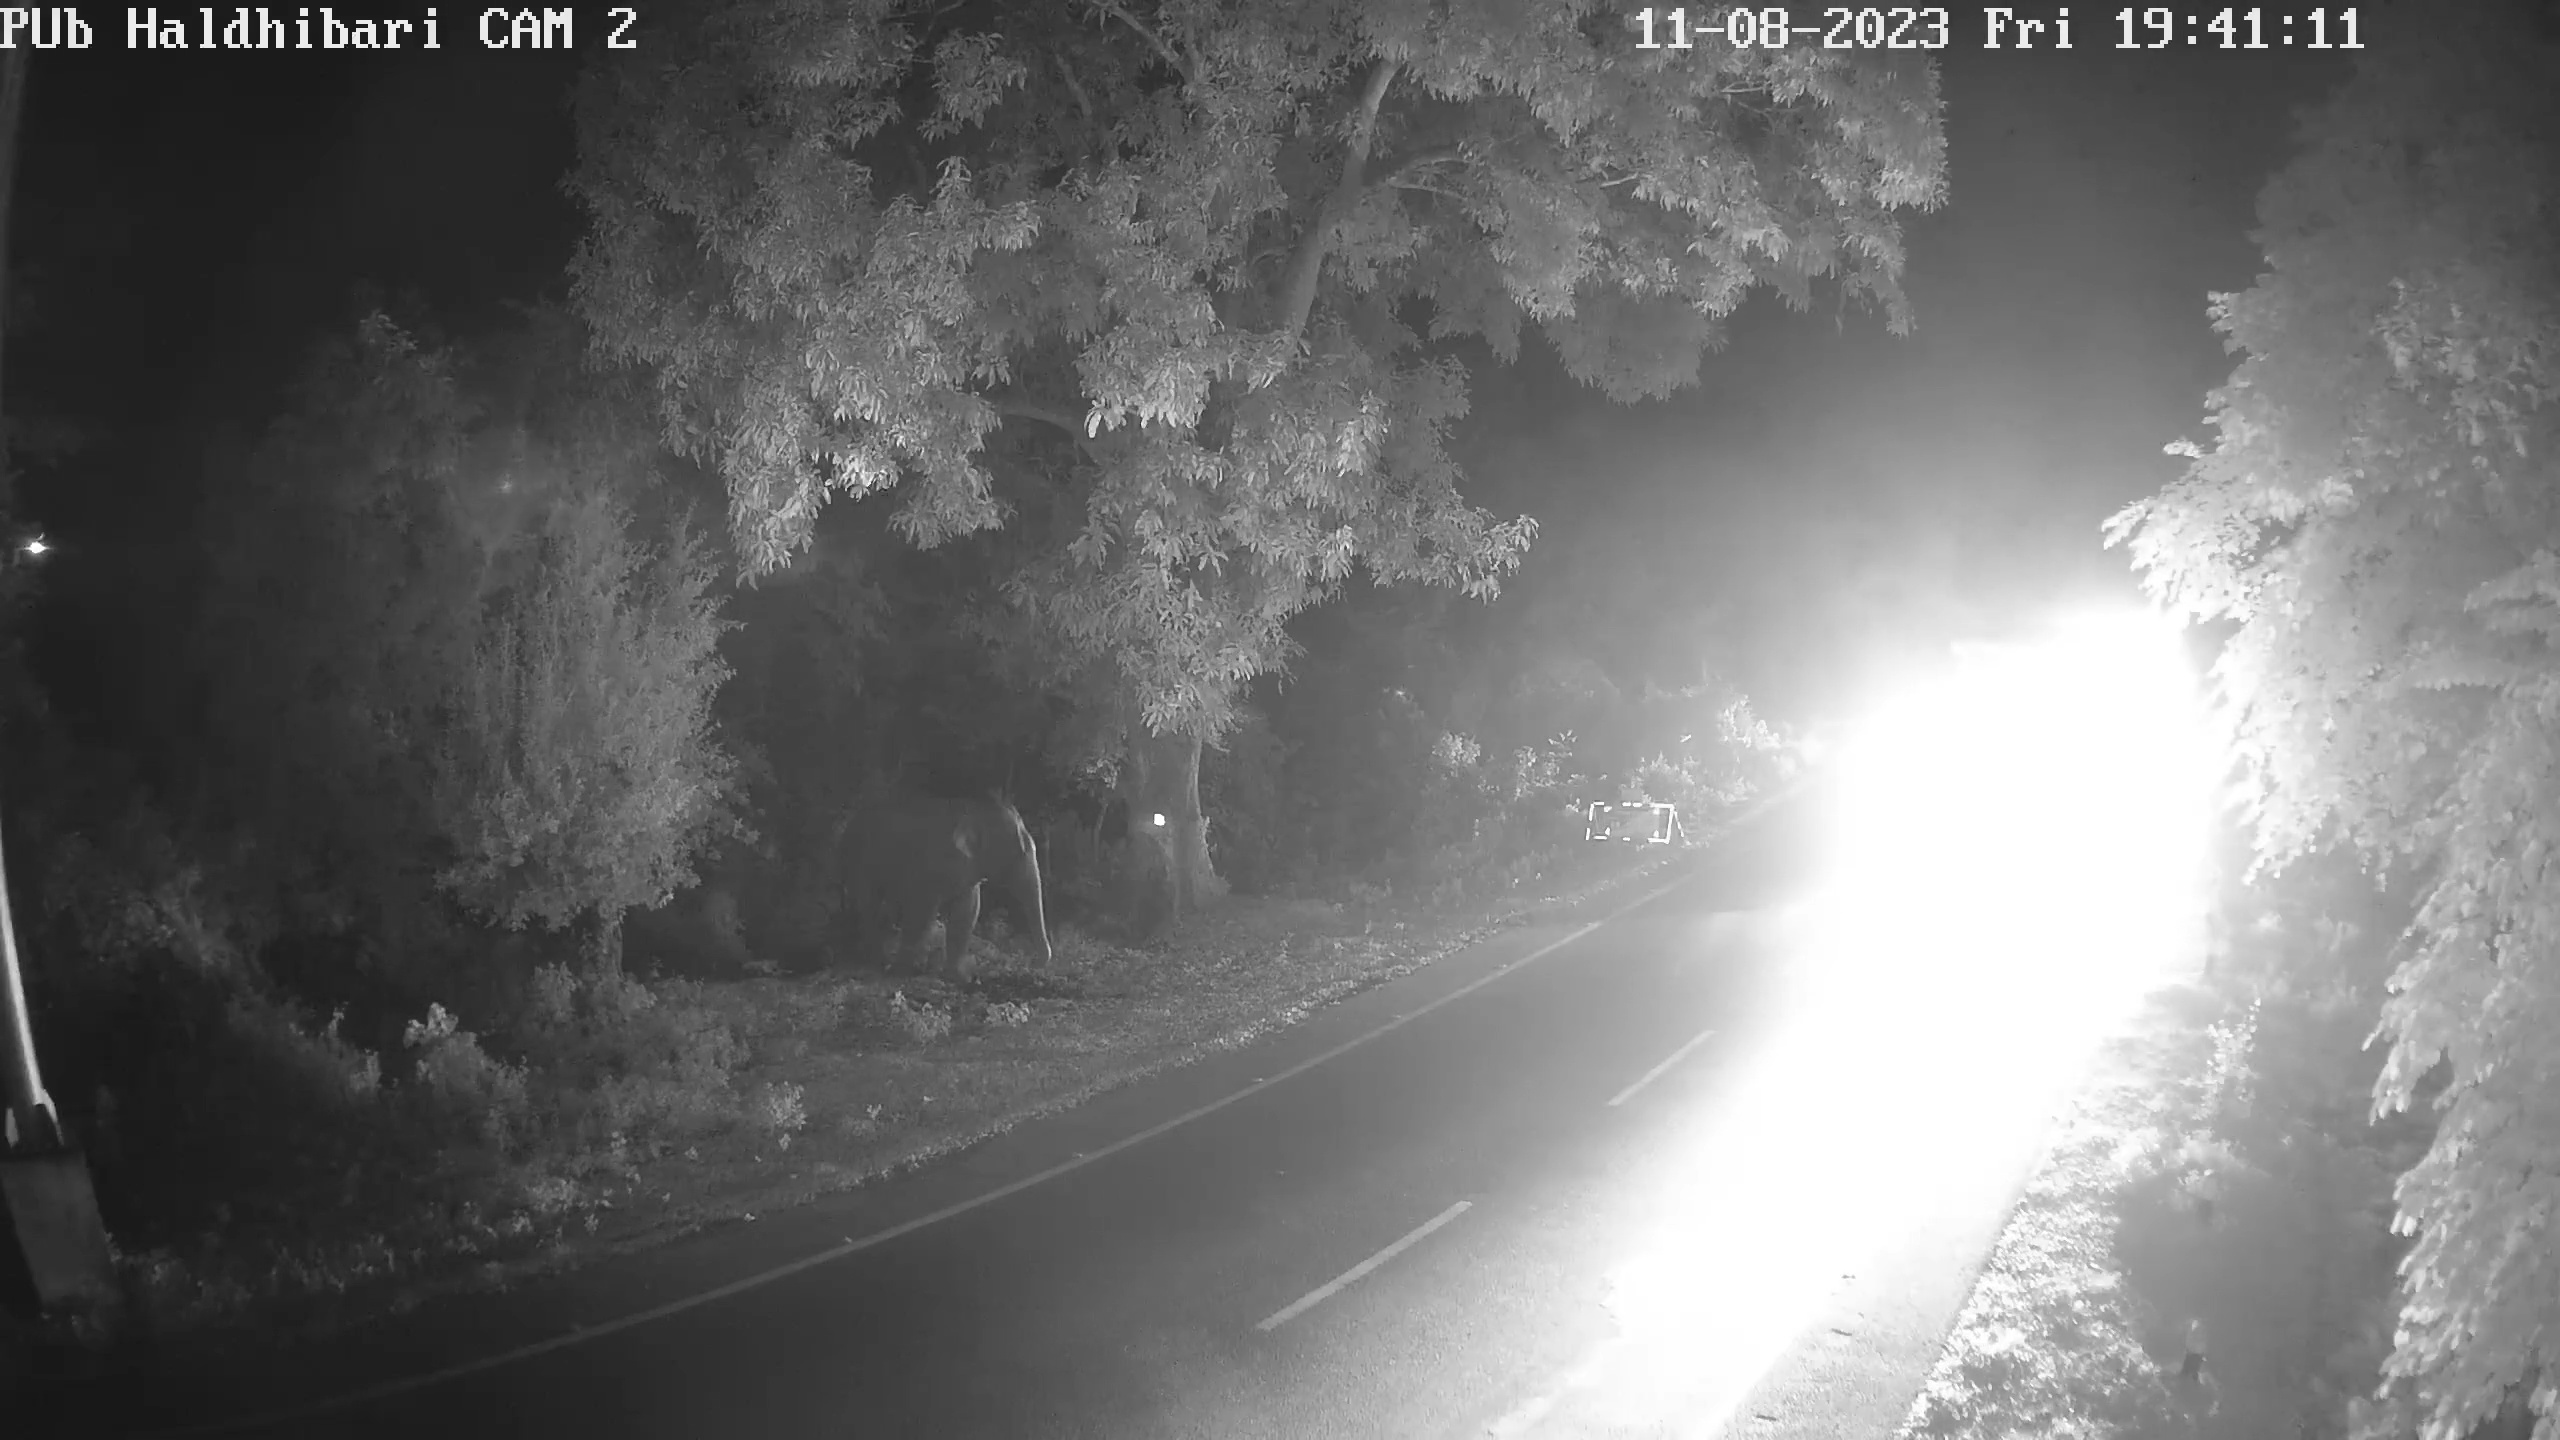elephants: (833, 793, 1053, 971)
